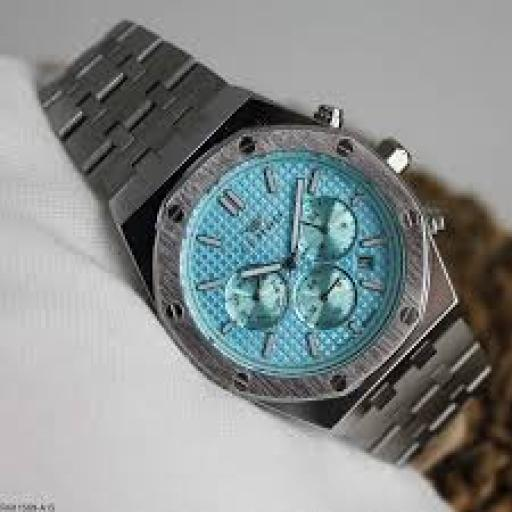KolSaati: (19, 4, 479, 486)
